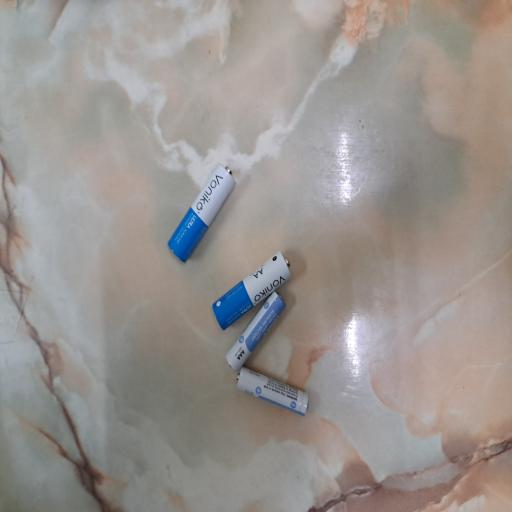battery: (168, 164, 236, 264), (213, 250, 291, 330), (224, 290, 286, 372), (236, 366, 310, 417)
